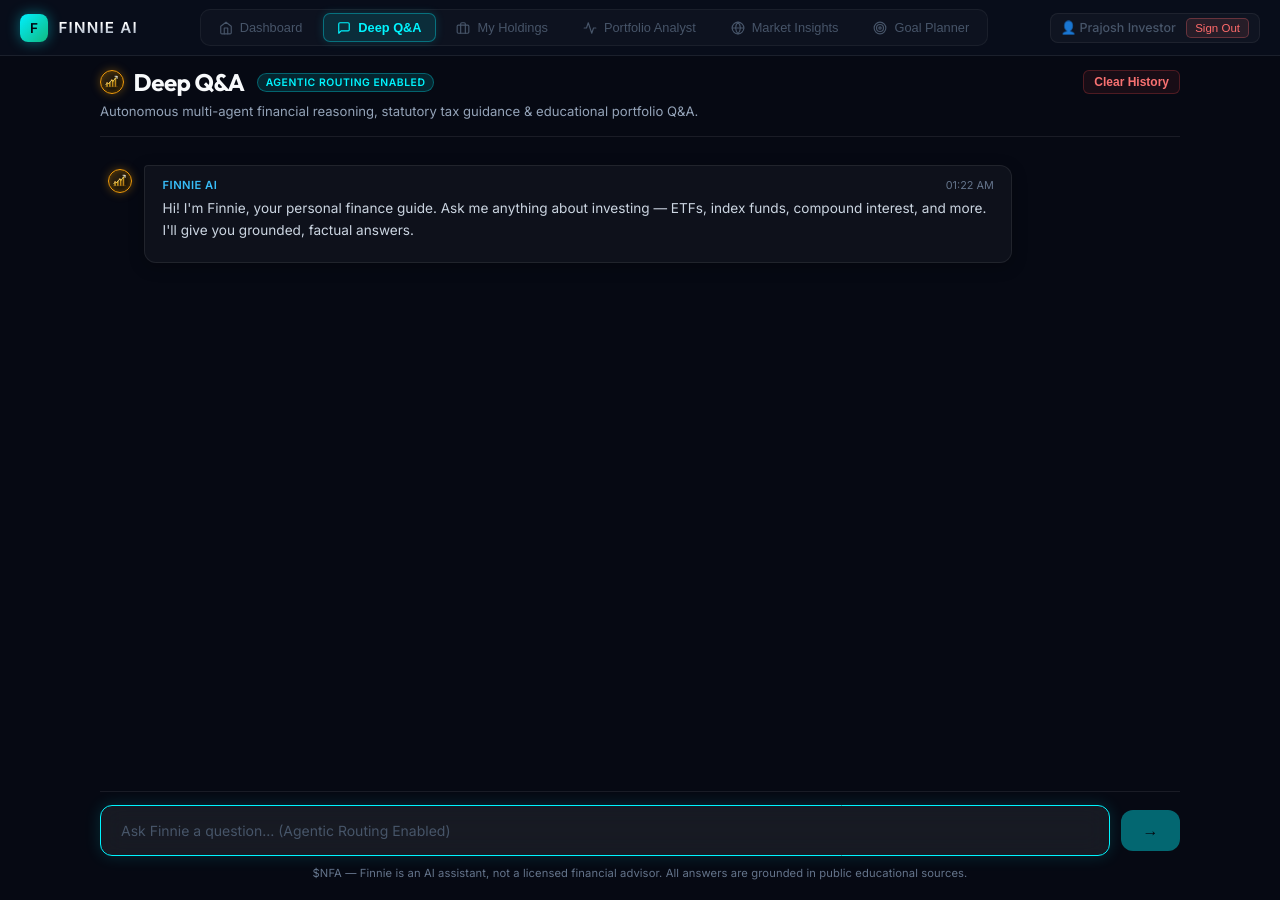
SPEC-07: Goodbye Confirmation Page & Session Termination Flow › AC-1, AC-2, AC-3, AC-5: Signing out presents GoodbyeScreen with generic reassurance and single Log In button
The width and height of the screenshot is (1280, 900).
Expected: the text "👤 Prajosh Investor" is shown, [1061, 20, 1176, 35]
Note: Click "Sign Out"
Click the button "Sign Out". click: [1218, 28]
box: [1186, 18, 1249, 38]
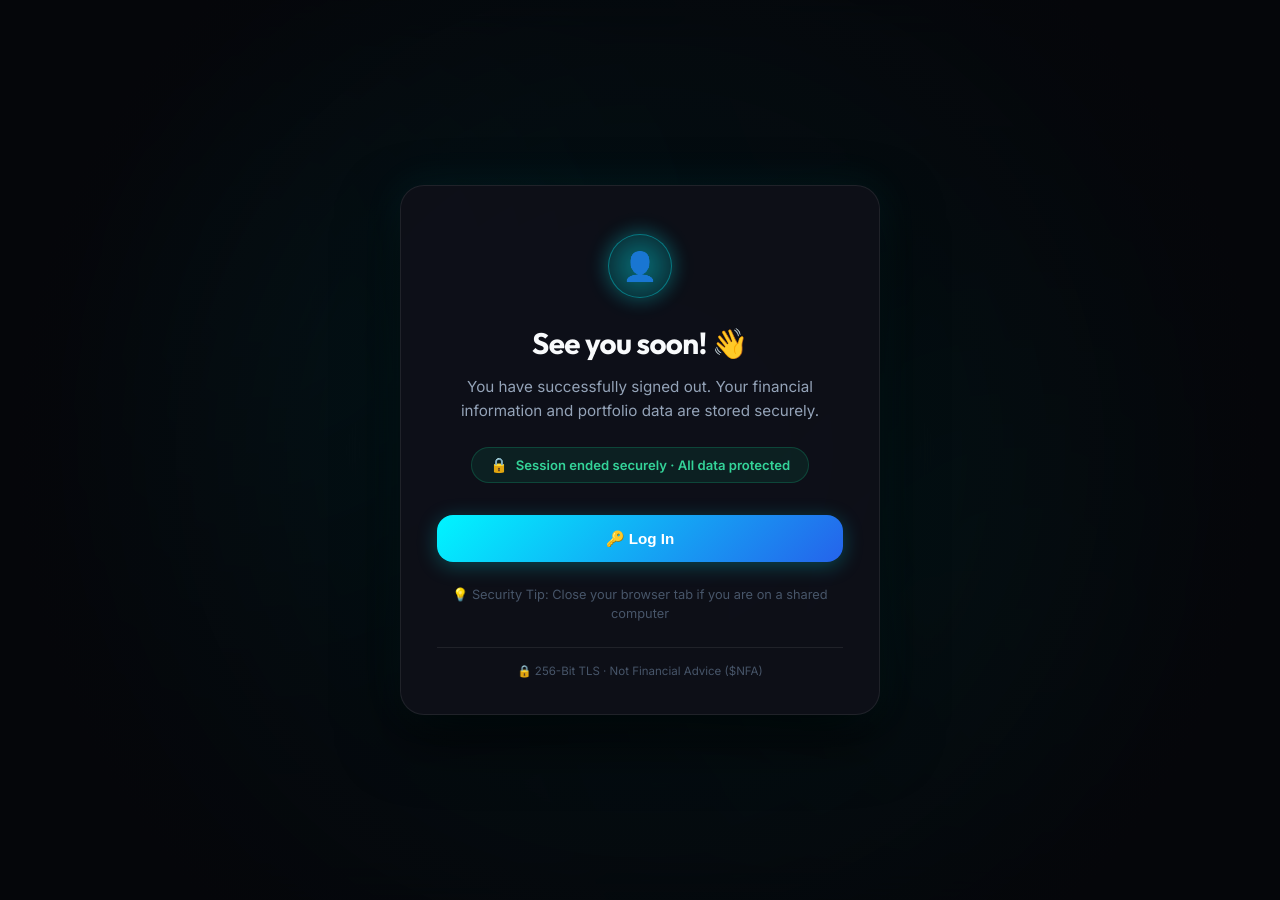
Result: the heading "See you soon! 👋" is shown at [532, 324, 748, 362]
Result: the text "Your financial information and portfolio data are stored securely." is shown at [461, 377, 819, 420]
Result: the text "Session ended securely · All data protected" is shown at [516, 457, 790, 473]
